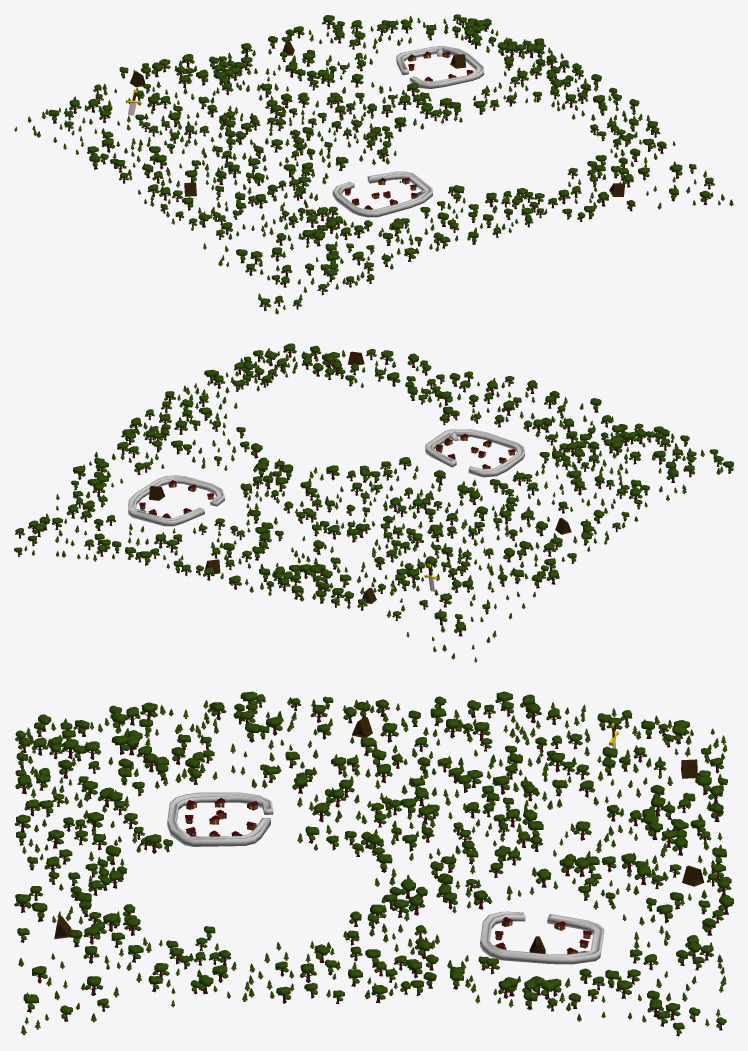
File: static-objects.glb
The picture shows the model from 3 angles, top to bottom: view 1: azimuth 30°, elevation 25°; view 2: azimuth 150°, elevation 25°; view 3: azimuth 270°, elevation 25°; orthographic projection. The views are drawn at different scales.
Visible parts, largest first — view 1: Walls, Walls.001; view 2: Walls.001, Walls; view 3: Walls.001, Walls.
Part boxes in pixels (<box>): Walls: <box>332,171,432,217</box>; Walls.001: <box>396,46,484,88</box>; Walls.001: <box>128,475,224,526</box>; Walls: <box>425,429,524,477</box>; Walls.001: <box>479,911,604,964</box>; Walls: <box>167,792,273,846</box>.
Size of the model in its own units: 563 by 59.39 by 558.
Materials: 17 (1 with a texture image).
